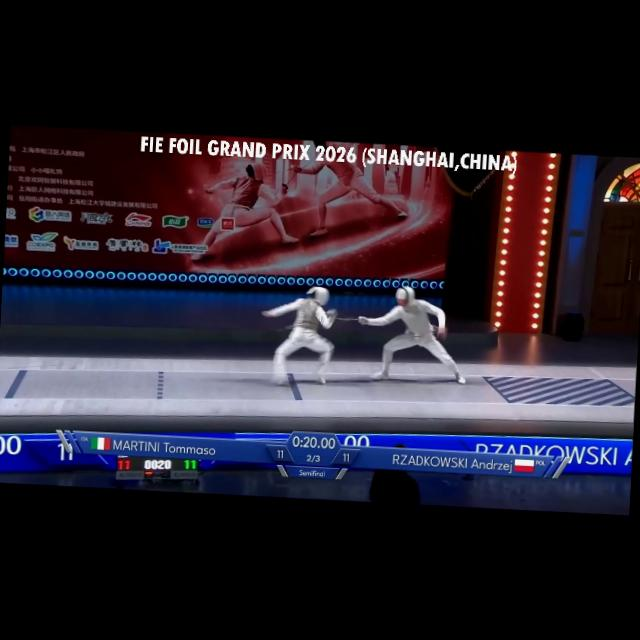blade: (327, 315, 368, 326)
